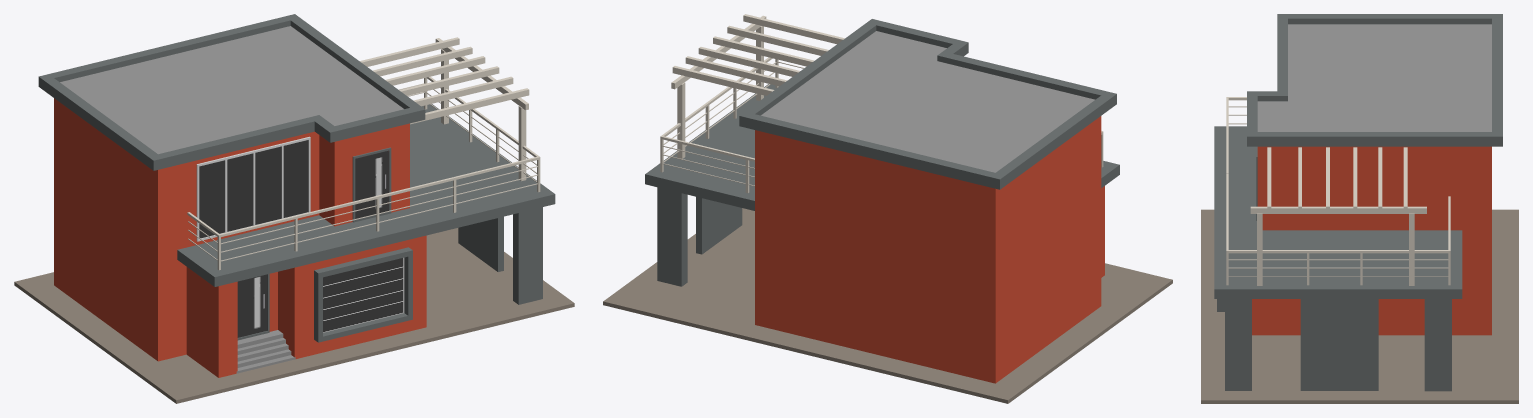
The model's file is building-house-01-color03.glb.
The picture shows the model from 3 angles, left to right: view 1: azimuth 30°, elevation 25°; view 2: azimuth 150°, elevation 25°; view 3: azimuth 270°, elevation 25°; orthographic projection. The views are drawn at different scales.
Parts seen in each view (by area): view 1: model; view 2: model; view 3: model.
Boxes of the visible parts, x1,y1,x2,y2 form: model: (14, 14, 574, 403); model: (603, 14, 1172, 403); model: (1201, 14, 1518, 403).
Bounding box in the file's own units: 17.89 × 9.05 × 12.6.
Materials: 1 (1 with a texture image).
